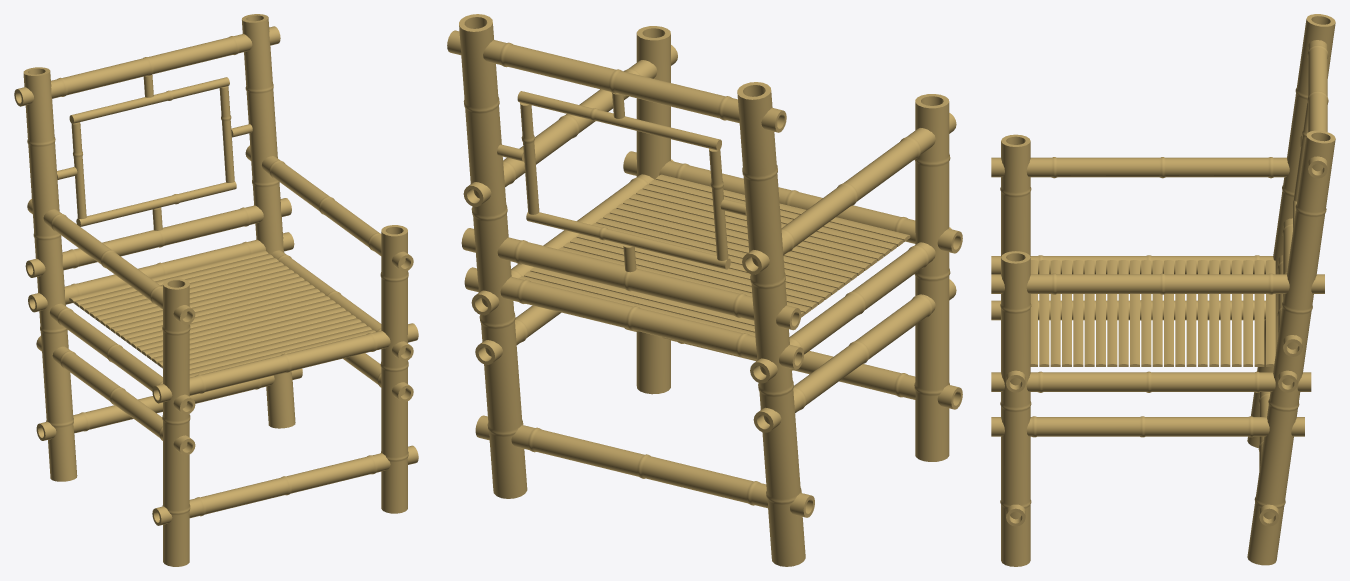
Rendered from ghe_tre_banh_khung.glb.
3 views of the same model, side by side, from view 1: azimuth 30°, elevation 25°; view 2: azimuth 150°, elevation 25°; view 3: azimuth 270°, elevation 25° (orthographic). The views are drawn at different scales.
Visible parts, largest first — view 1: ghe_tre_banh_khung; view 2: ghe_tre_banh_khung; view 3: ghe_tre_banh_khung.
Boxes of the visible parts, <box> form: ghe_tre_banh_khung: <box>14,14,418,566</box>; ghe_tre_banh_khung: <box>447,14,962,566</box>; ghe_tre_banh_khung: <box>991,14,1335,566</box>.
Size of the model in its own units: 0.66 by 0.9538 by 0.6998.
